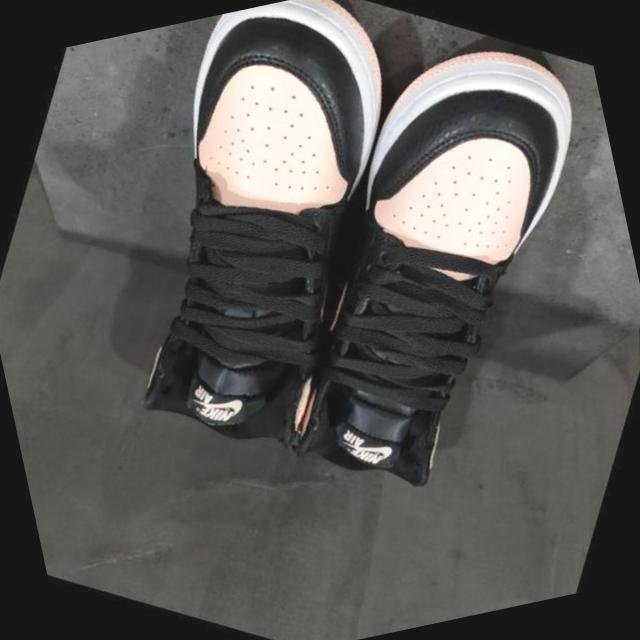nike_fake_jordan: (197, 0, 640, 540), (30, 0, 501, 493)
